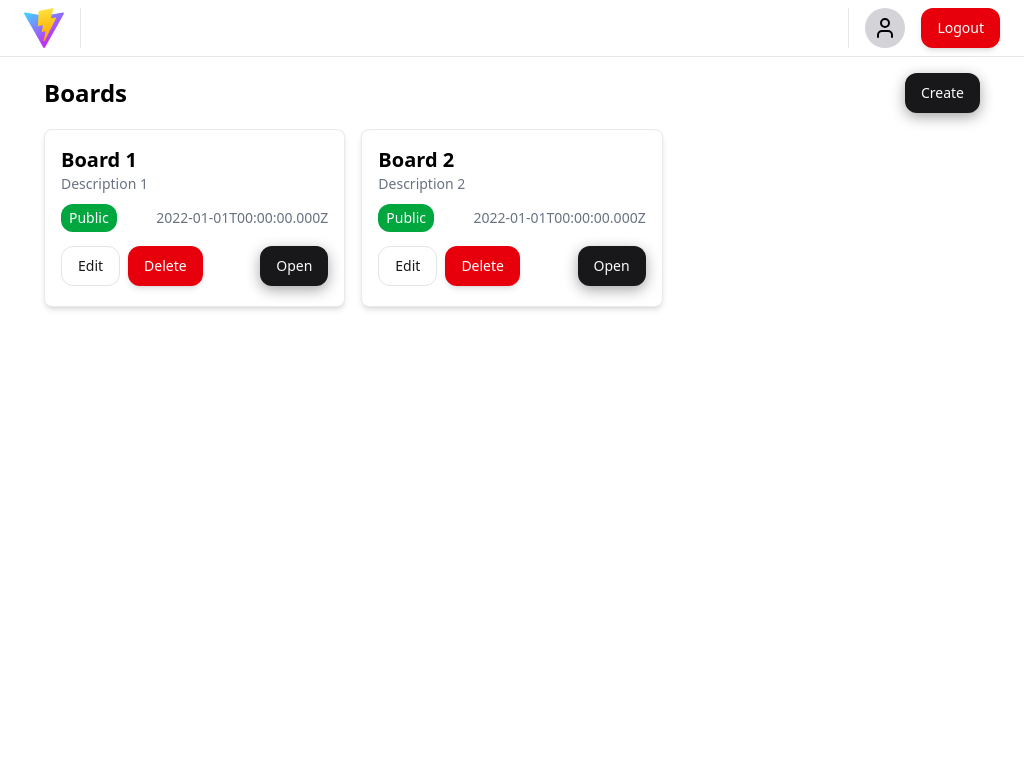
Test case: Board Page › Should navigate to the particular board page when any board link is clicked
Click the button "Open" below "Description 1": (294, 266) [260,246,328,286]
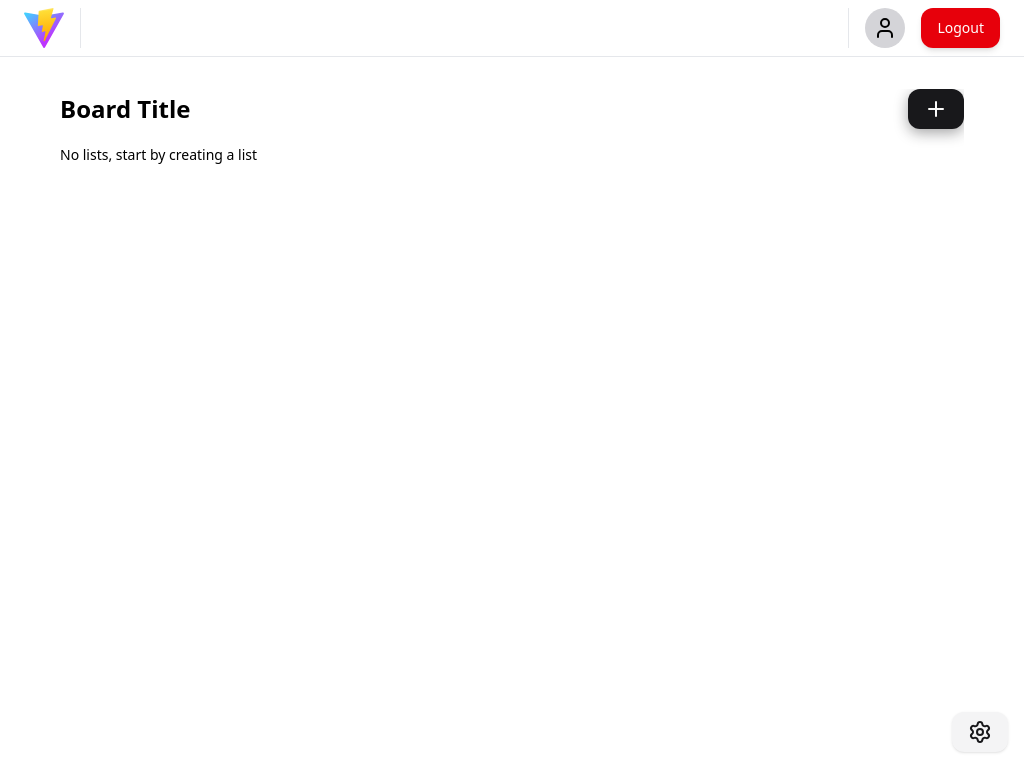
Expected: the heading "Board Title" is shown, [60,93,190,125]
